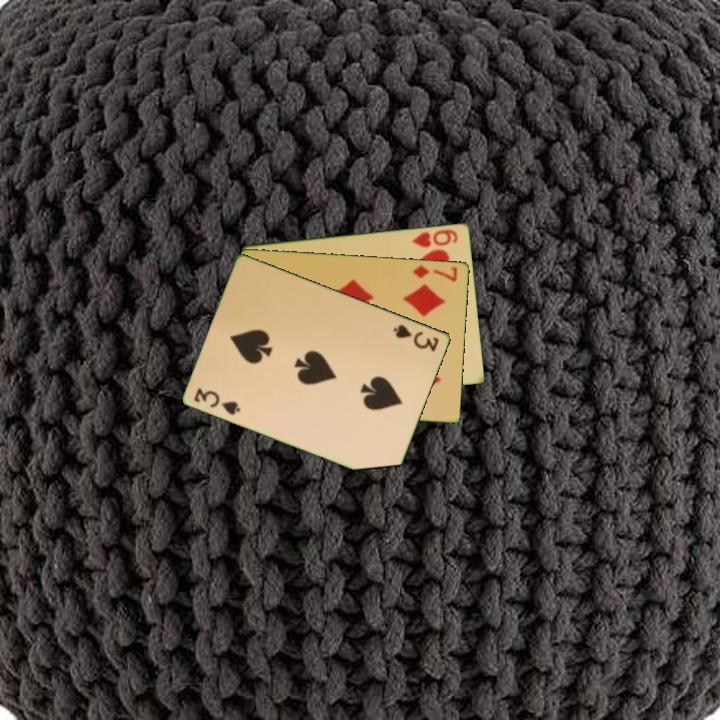3s: (191, 384, 244, 418), (390, 320, 442, 354)
6h: (409, 226, 461, 250)
7d: (409, 261, 460, 284)
